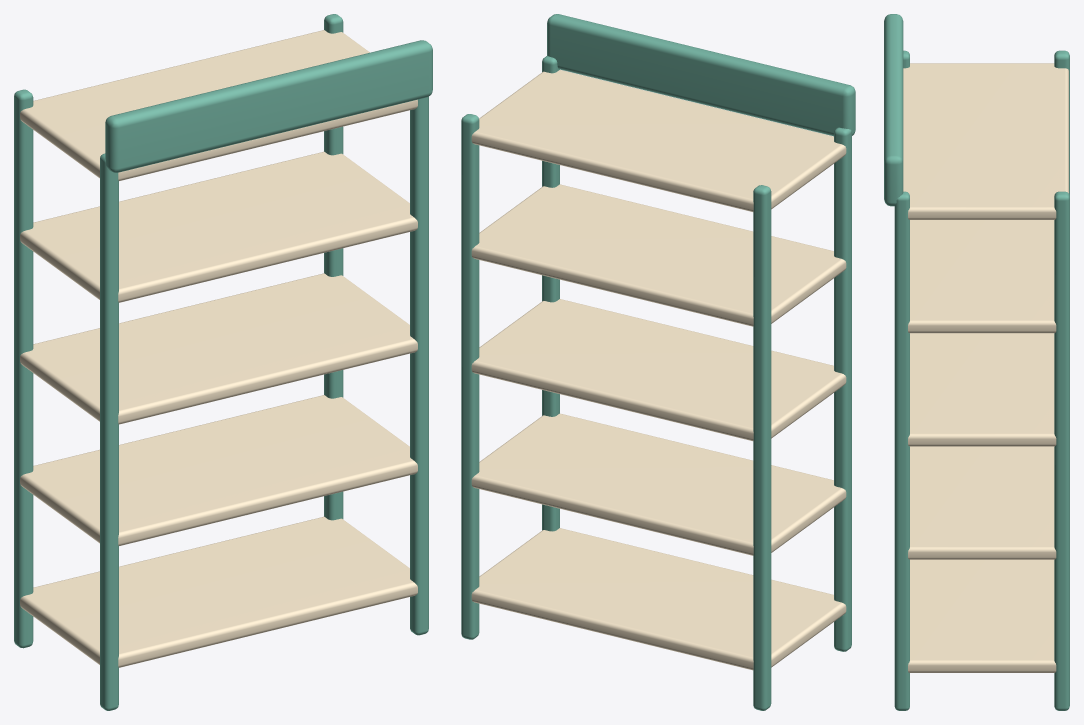
Rendered from Pickup_shelf.fbx.
3 renders of one model, left to right at view 1: azimuth 30°, elevation 25°; view 2: azimuth 150°, elevation 25°; view 3: azimuth 270°, elevation 25°, orthographic. The views are drawn at different scales.
Visible parts, largest first — view 1: Toon_Pickup_shelf Rack shelf.007, Toon_Pickup_shelf Rack shelf.006, Toon_Pickup_shelf Rack shelf.005, Toon_Pickup_shelf Rack shelf.008, Toon_Pickup_shelf Rack header.001, Toon_Pickup_shelf Rack shelf.009, Toon_Pickup_shelf Rack upright.004, Toon_Pickup_shelf Rack upright.005, Toon_Pickup_shelf Rack upright.006, Toon_Pickup_shelf Rack upright.007; view 2: Toon_Pickup_shelf Rack shelf.009, Toon_Pickup_shelf Rack shelf.008, Toon_Pickup_shelf Rack shelf.005, Toon_Pickup_shelf Rack shelf.006, Toon_Pickup_shelf Rack shelf.007, Toon_Pickup_shelf Rack header.001, Toon_Pickup_shelf Rack upright.005, Toon_Pickup_shelf Rack upright.007, Toon_Pickup_shelf Rack upright.004, Toon_Pickup_shelf Rack upright.006; view 3: Toon_Pickup_shelf Rack shelf.009, Toon_Pickup_shelf Rack shelf.008, Toon_Pickup_shelf Rack shelf.005, Toon_Pickup_shelf Rack shelf.006, Toon_Pickup_shelf Rack shelf.007, Toon_Pickup_shelf Rack upright.007, Toon_Pickup_shelf Rack upright.006, Toon_Pickup_shelf Rack header.001, Toon_Pickup_shelf Rack upright.005.
Boxes of the visible parts, x1,y1,x2,y2 form: Toon_Pickup_shelf Rack shelf.007: (20,273,417,424); Toon_Pickup_shelf Rack shelf.006: (20,395,417,545); Toon_Pickup_shelf Rack shelf.005: (20,516,417,667); Toon_Pickup_shelf Rack shelf.008: (20,151,417,302); Toon_Pickup_shelf Rack header.001: (105,40,432,172); Toon_Pickup_shelf Rack shelf.009: (20,30,417,180); Toon_Pickup_shelf Rack upright.004: (100,153,118,710); Toon_Pickup_shelf Rack upright.005: (14,89,33,648); Toon_Pickup_shelf Rack upright.006: (410,96,428,635); Toon_Pickup_shelf Rack upright.007: (324,14,343,520); Toon_Pickup_shelf Rack shelf.009: (471,70,846,211); Toon_Pickup_shelf Rack shelf.008: (471,184,846,326); Toon_Pickup_shelf Rack shelf.005: (471,528,846,670); Toon_Pickup_shelf Rack shelf.006: (471,413,846,555); Toon_Pickup_shelf Rack shelf.007: (471,299,846,441); Toon_Pickup_shelf Rack header.001: (547,14,855,136); Toon_Pickup_shelf Rack upright.005: (753,185,771,710); Toon_Pickup_shelf Rack upright.007: (461,114,479,639); Toon_Pickup_shelf Rack upright.004: (834,127,851,651); Toon_Pickup_shelf Rack upright.006: (542,55,559,531); Toon_Pickup_shelf Rack shelf.009: (903,63,1068,219); Toon_Pickup_shelf Rack shelf.008: (908,220,1056,333); Toon_Pickup_shelf Rack shelf.005: (908,559,1056,672); Toon_Pickup_shelf Rack shelf.006: (908,446,1056,559); Toon_Pickup_shelf Rack shelf.007: (908,333,1056,446); Toon_Pickup_shelf Rack upright.007: (1054,191,1069,710); Toon_Pickup_shelf Rack upright.006: (894,191,909,710); Toon_Pickup_shelf Rack header.001: (884,14,903,206); Toon_Pickup_shelf Rack upright.005: (1054,50,1069,195).
Size of the model in its own units: 100 by 176 by 53.5.
